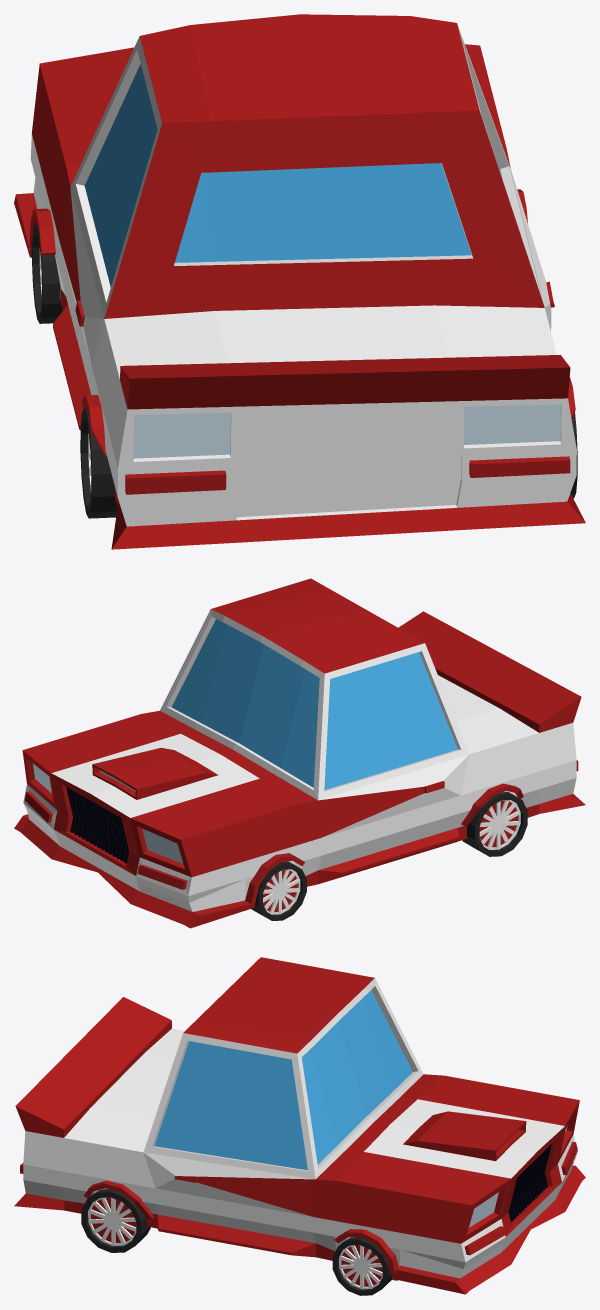
The model's file is TEST-Car.obj.
The picture shows the model from 3 angles, top to bottom: view 1: azimuth 30°, elevation 25°; view 2: azimuth 150°, elevation 25°; view 3: azimuth 270°, elevation 25°; orthographic projection. The views are drawn at different scales.
Visible parts, largest first — view 1: wheel1.1_ID93; view 2: wheel1.1_ID93; view 3: wheel1.1_ID93.
Boxes of the visible parts, x1=… form: wheel1.1_ID93: x1=14, y1=14, x2=585, y2=549; wheel1.1_ID93: x1=14, y1=578, x2=585, y2=928; wheel1.1_ID93: x1=14, y1=957, x2=585, y2=1295.
Bounding box in the file's own units: 2.16 × 1.11 × 2.64.
